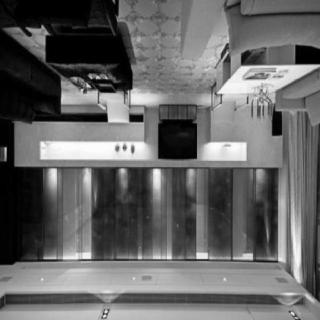other: (47, 142, 143, 154), (114, 169, 132, 205), (182, 167, 198, 205), (254, 169, 274, 197), (44, 168, 59, 196), (151, 168, 163, 194)
